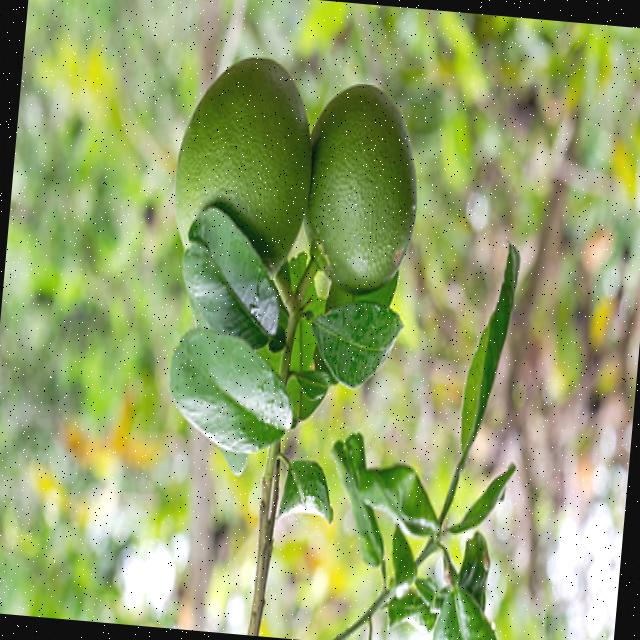Unripe: (164, 49, 318, 296), (296, 77, 427, 300)
